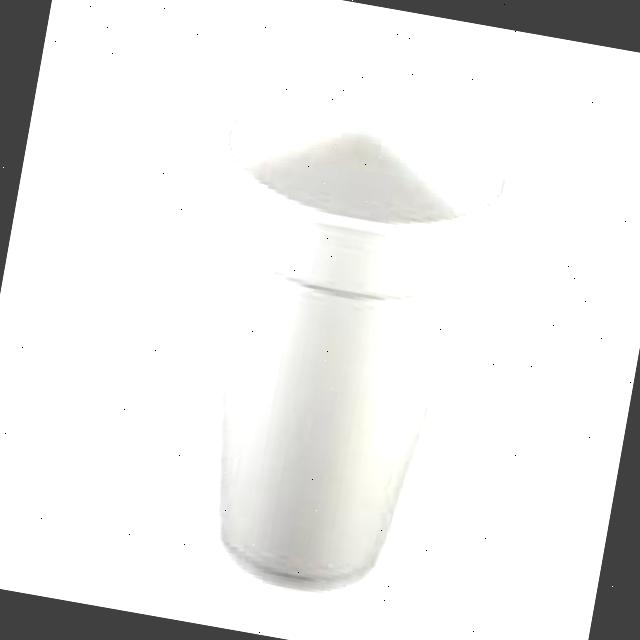trash: (150, 76, 520, 614)
